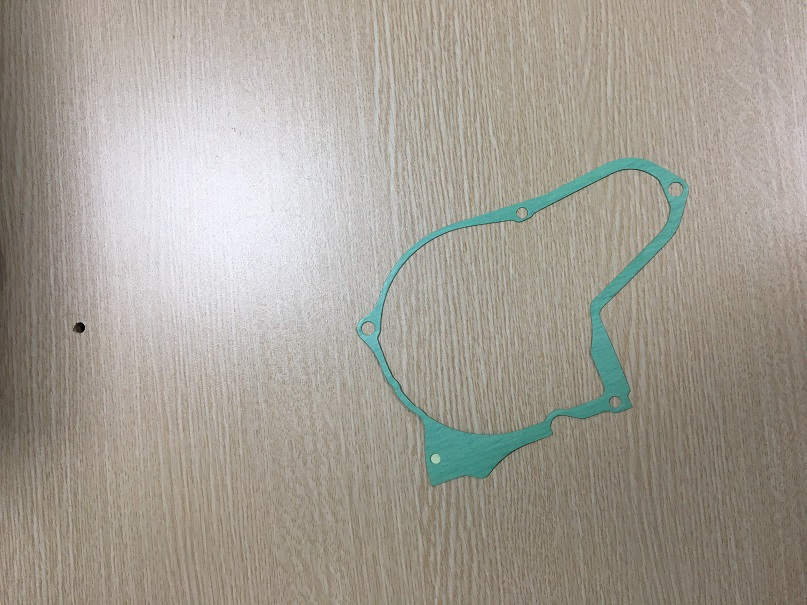type1: (352, 146, 694, 495)
